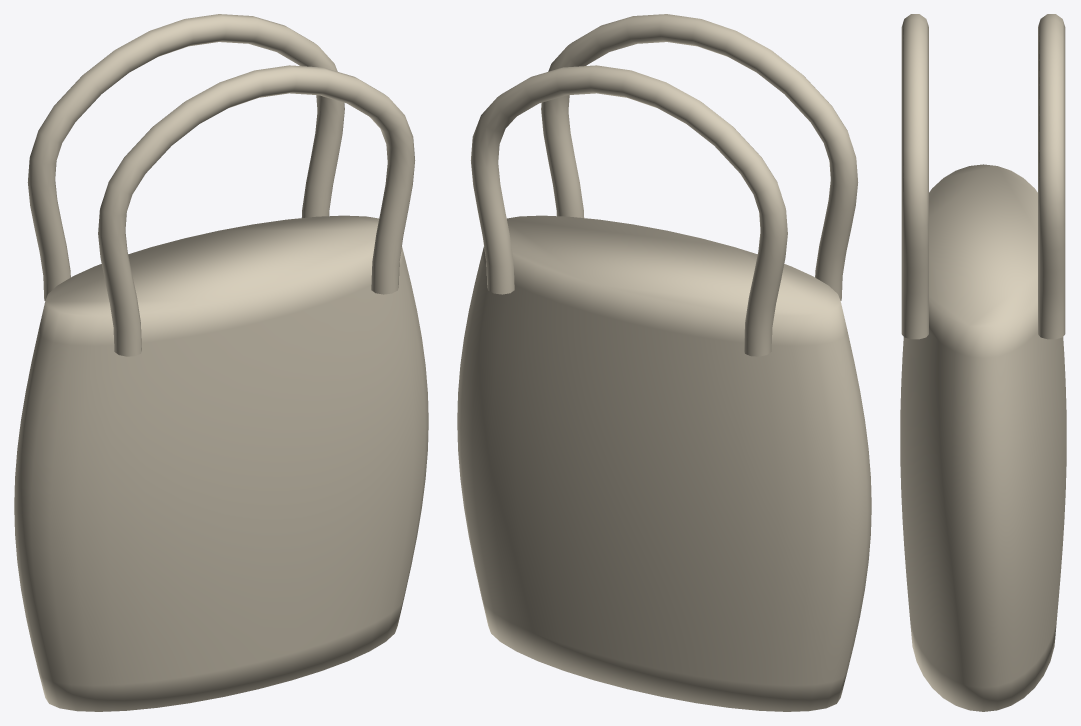
The model's file is sku_v23_tote.glb.
The picture shows the model from 3 angles, left to right: view 1: azimuth 30°, elevation 25°; view 2: azimuth 150°, elevation 25°; view 3: azimuth 270°, elevation 25°; orthographic projection. The views are drawn at different scales.
Parts seen in each view (by area): view 1: sku_v23_tote_V23_natural_canvas; view 2: sku_v23_tote_V23_natural_canvas; view 3: sku_v23_tote_V23_natural_canvas.
Boxes of the visible parts, x1,y1,x2,y2 form: sku_v23_tote_V23_natural_canvas: [14, 14, 428, 711]; sku_v23_tote_V23_natural_canvas: [457, 14, 871, 711]; sku_v23_tote_V23_natural_canvas: [900, 14, 1066, 711].
Size of the model in its own units: 0.3 by 0.4351 by 0.11.
